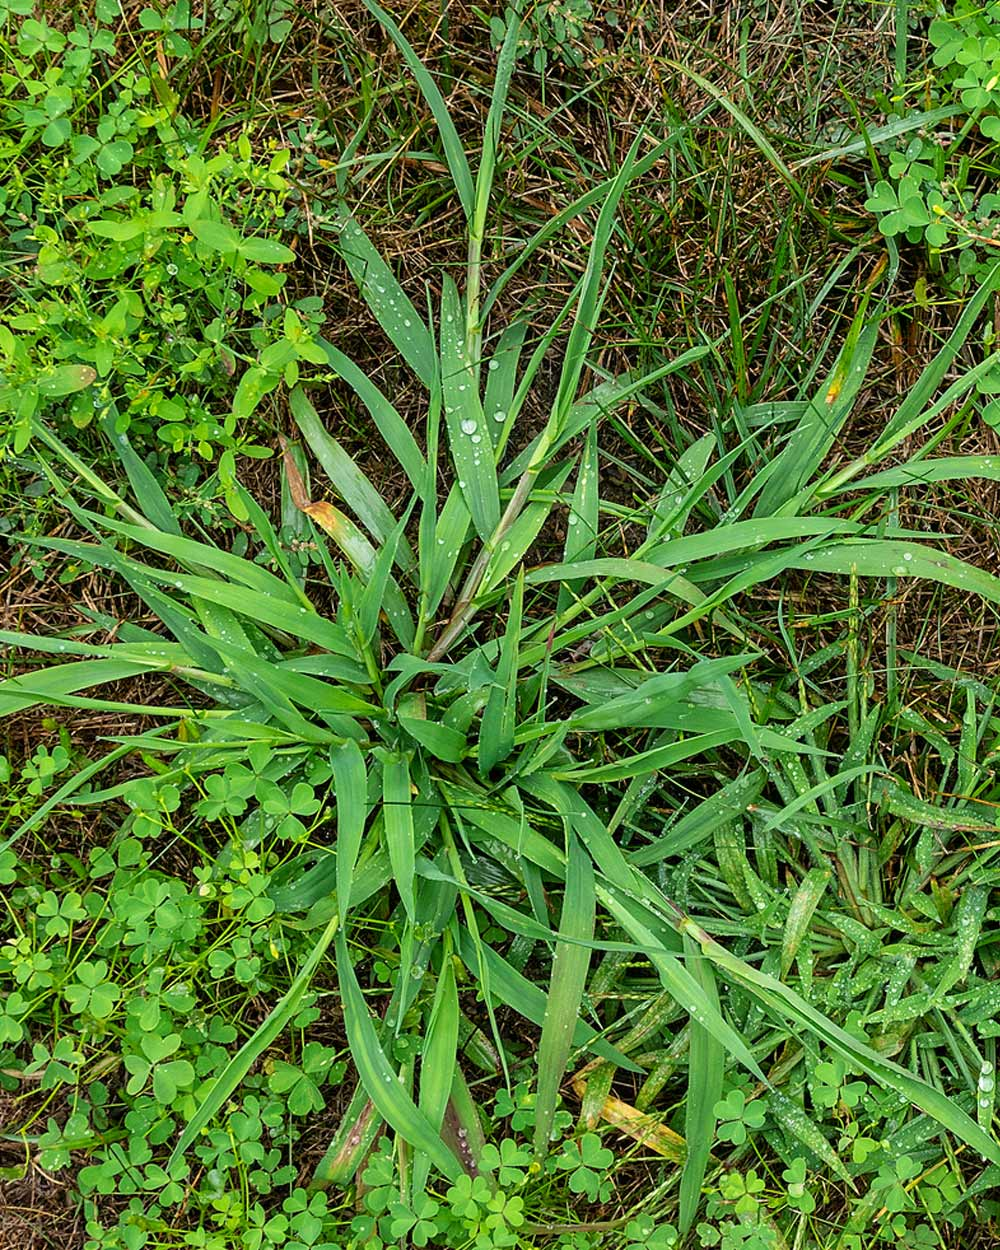crabgrass: (53, 356, 899, 1066)
